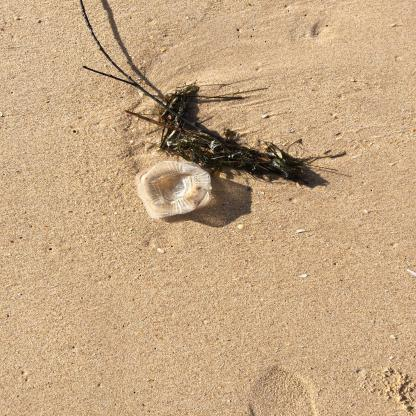plastik: (137, 162, 213, 221)
